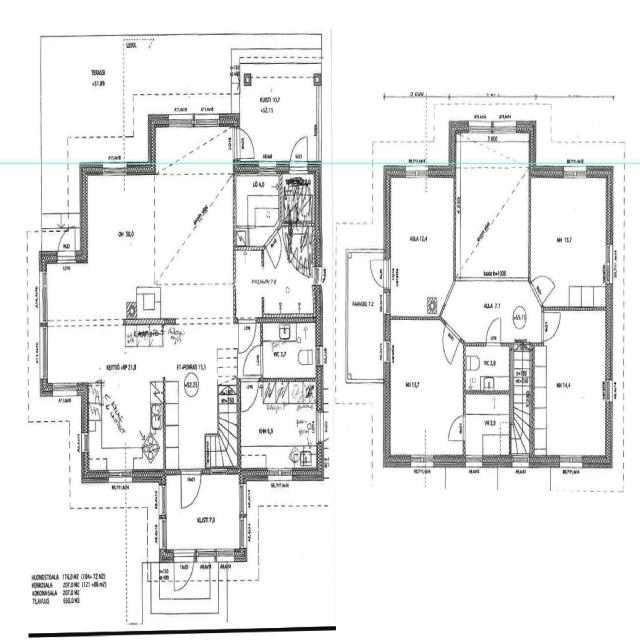door: (178, 467, 202, 512), (174, 549, 195, 592), (530, 272, 556, 306), (56, 225, 78, 264), (288, 132, 310, 168), (242, 342, 264, 378), (240, 375, 260, 412), (542, 306, 562, 342), (483, 313, 504, 345), (446, 409, 466, 442), (236, 125, 256, 158), (237, 318, 256, 352), (369, 256, 389, 288)
window: (38, 321, 50, 383), (312, 82, 323, 138), (556, 452, 586, 471), (100, 161, 128, 180), (40, 275, 50, 328), (604, 238, 615, 285), (193, 111, 220, 129), (51, 380, 79, 397), (561, 165, 588, 181), (168, 113, 195, 129), (107, 467, 132, 484), (404, 165, 429, 182), (467, 120, 492, 137), (267, 466, 293, 481), (409, 454, 435, 469), (208, 463, 234, 478), (316, 406, 326, 444), (256, 160, 277, 176), (464, 454, 485, 470), (382, 334, 392, 367), (80, 426, 90, 456), (511, 453, 531, 468), (215, 548, 236, 561), (606, 376, 615, 404), (315, 342, 324, 369)
zone: (533, 309, 609, 462), (386, 318, 463, 462), (454, 138, 531, 282), (154, 156, 235, 289), (529, 175, 610, 307), (84, 173, 160, 312), (387, 174, 455, 319), (85, 377, 162, 474), (238, 69, 318, 159), (239, 386, 320, 472), (162, 331, 235, 420), (345, 250, 386, 384), (263, 255, 317, 320), (261, 321, 318, 381), (464, 393, 511, 461), (236, 172, 281, 231), (462, 342, 512, 393), (233, 248, 266, 319), (286, 218, 316, 272)
